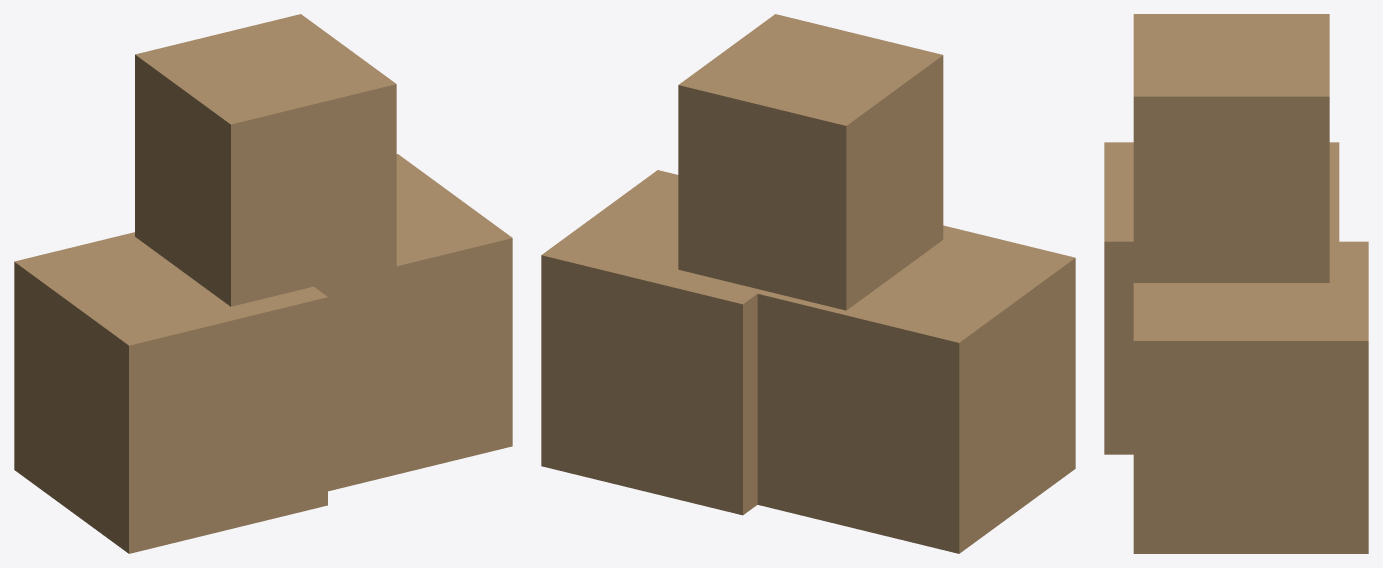
The model's file is crate_stack.glb.
3 views of the same model, side by side, from view 1: azimuth 30°, elevation 25°; view 2: azimuth 150°, elevation 25°; view 3: azimuth 270°, elevation 25° (orthographic). The views are drawn at different scales.
Visible parts, largest first — view 1: crate_a, crate_top, crate_b; view 2: crate_a, crate_top, crate_b; view 3: crate_b, crate_top, crate_a.
Part boxes in pixels (x1,y1,x2,y2): crate_a: (14,232,327,553); crate_top: (135,14,396,489); crate_b: (314,154,512,491); crate_a: (757,225,1075,553); crate_top: (678,14,943,310); crate_b: (541,170,761,515); crate_b: (1133,241,1368,553); crate_top: (1133,14,1329,282); crate_a: (1104,142,1339,454).
Bounding box in the file's own units: 2.4 × 2.25 × 1.35.
